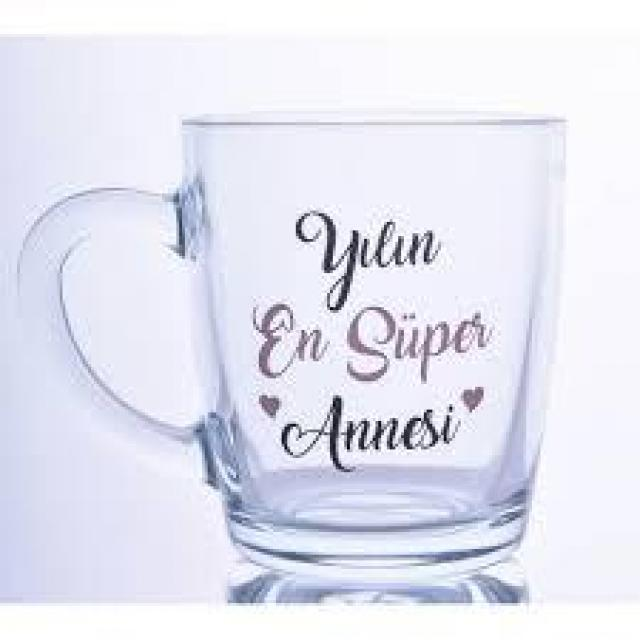non-organic waste: (6, 101, 577, 596)
